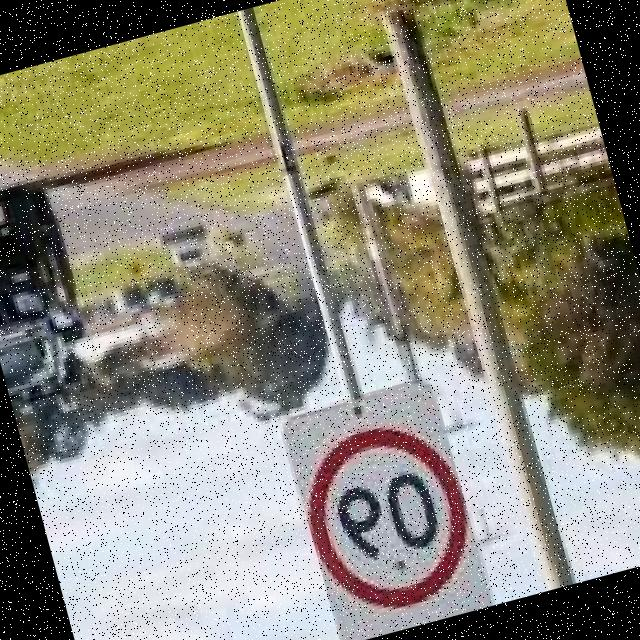speed_limit_60: (285, 406, 490, 632)
